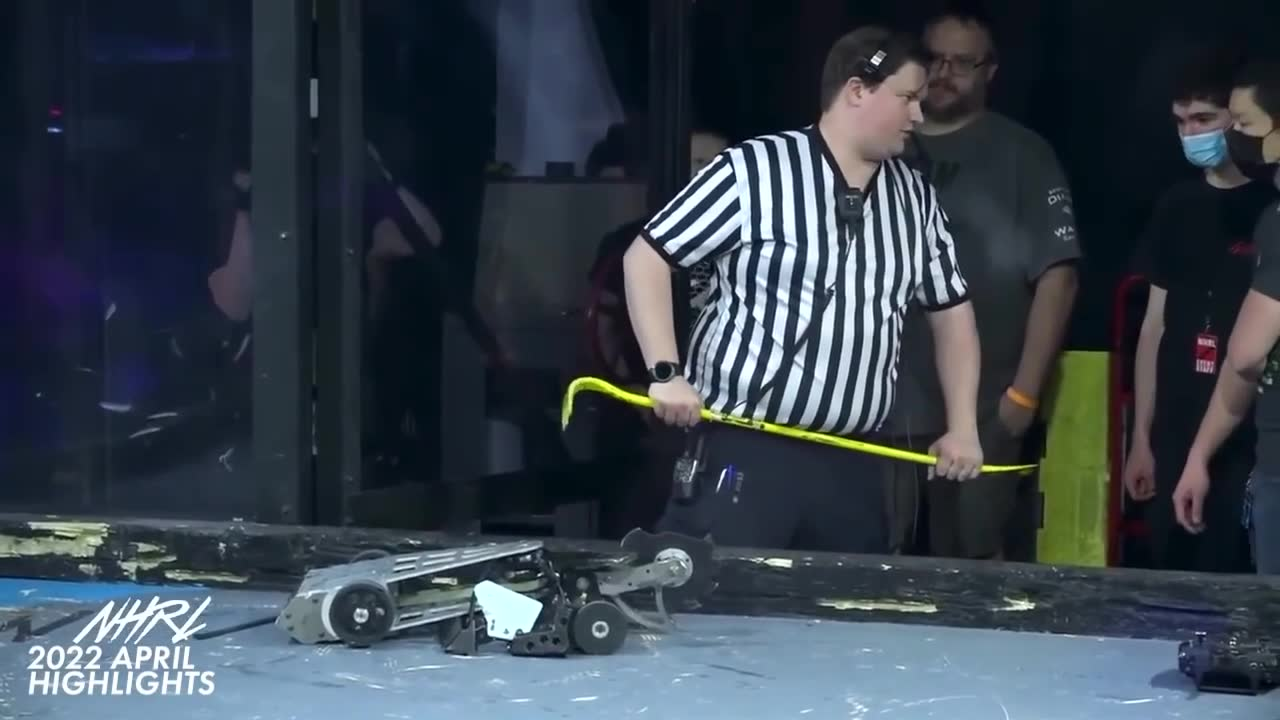combatbot: (272, 537, 540, 658), (510, 532, 632, 660), (1179, 620, 1280, 695), (636, 599, 691, 600)
